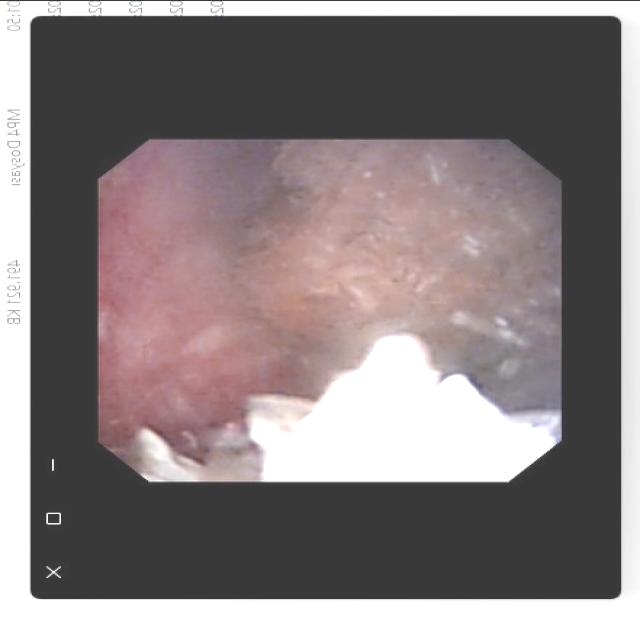stone: (137, 145, 554, 476)
